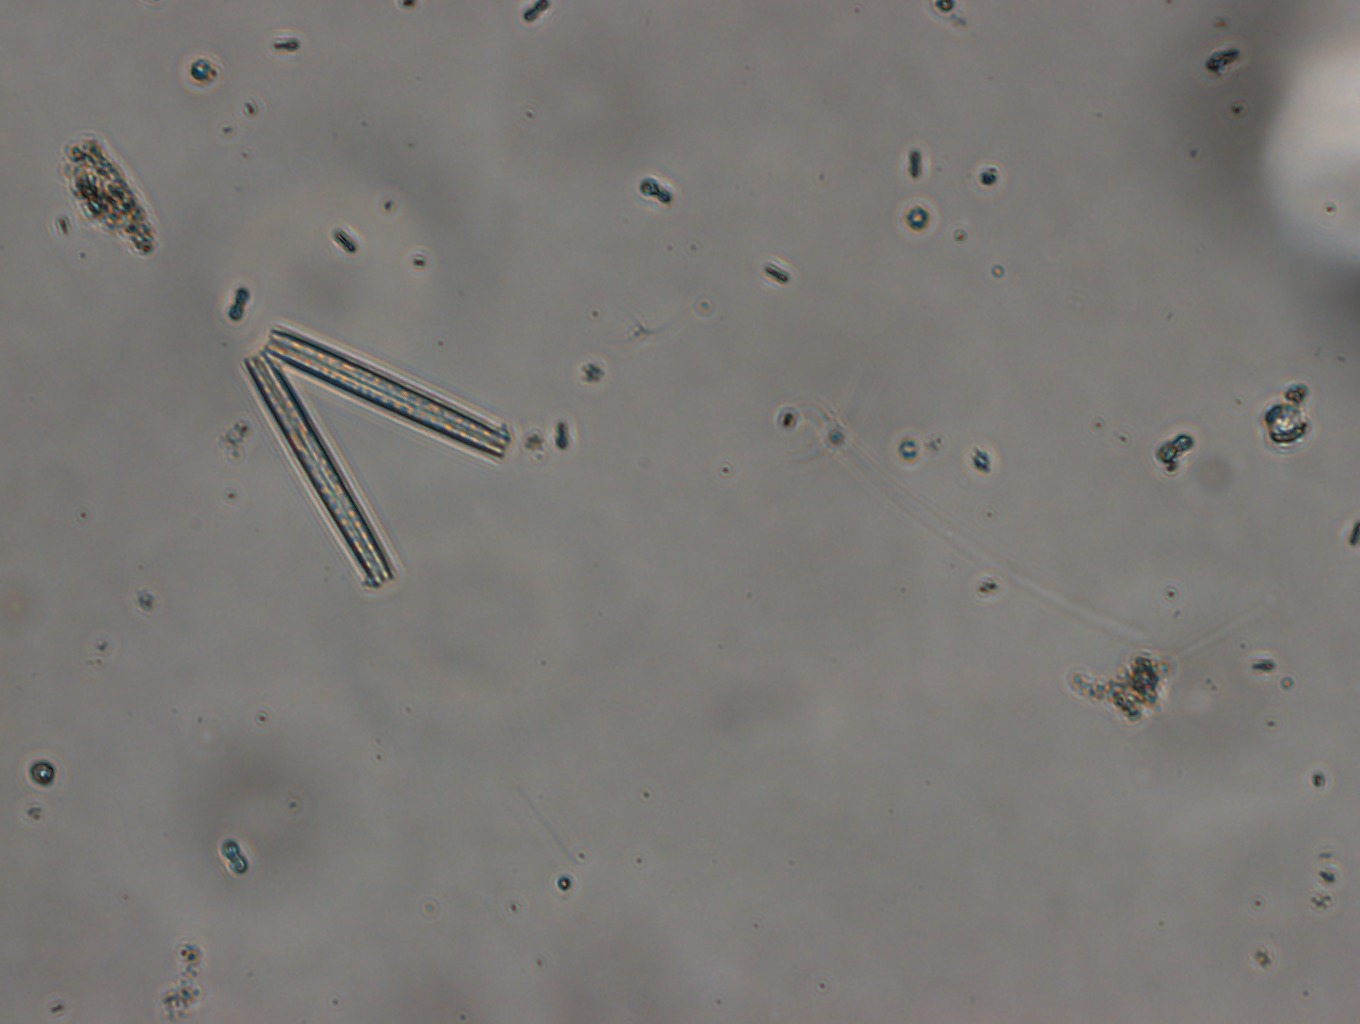thalassionema nitzschioides: (237, 319, 522, 593)
